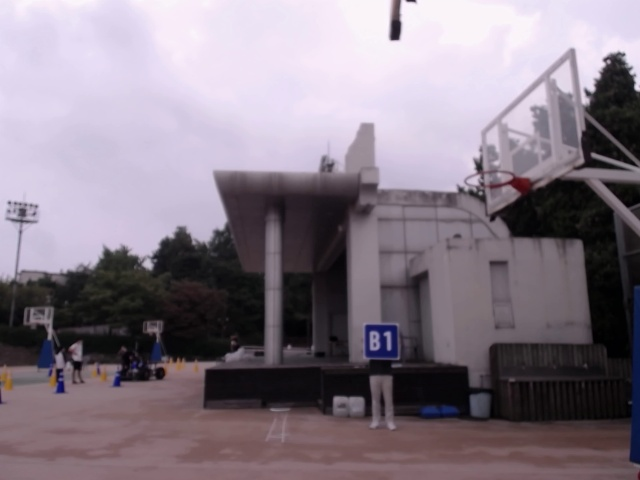delivery_b1: (363, 323, 400, 359)
